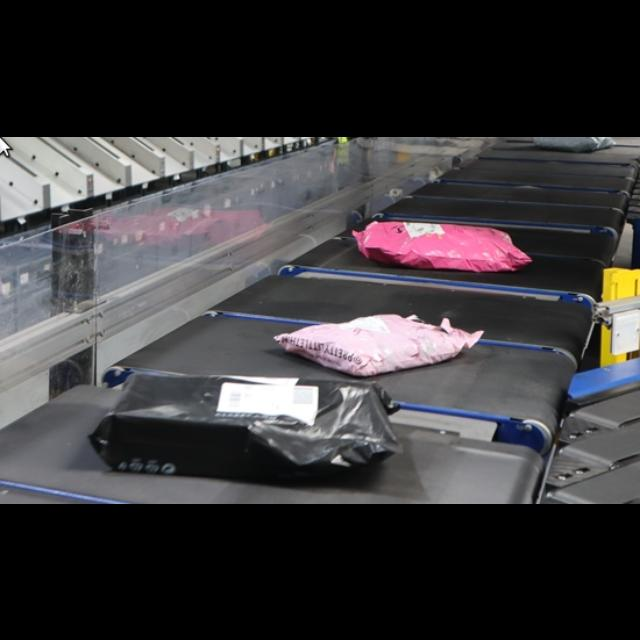mailer: (112, 369, 388, 476), (280, 313, 476, 373), (364, 220, 528, 272), (534, 136, 616, 152)
